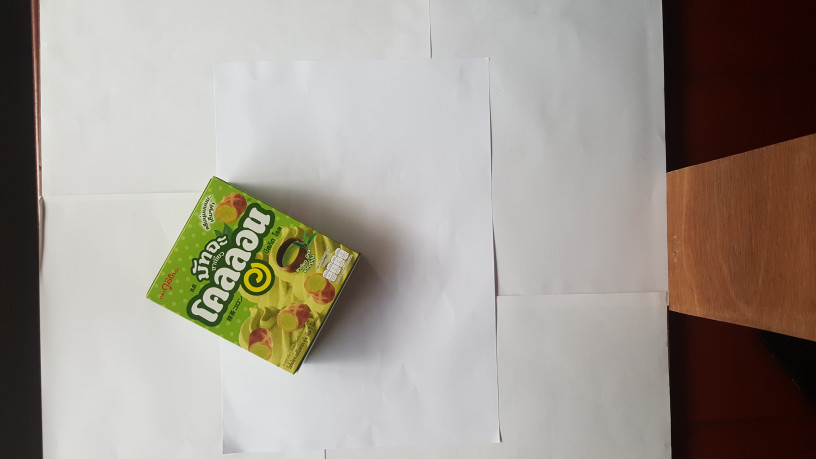collon-matcha: (143, 176, 366, 377)
